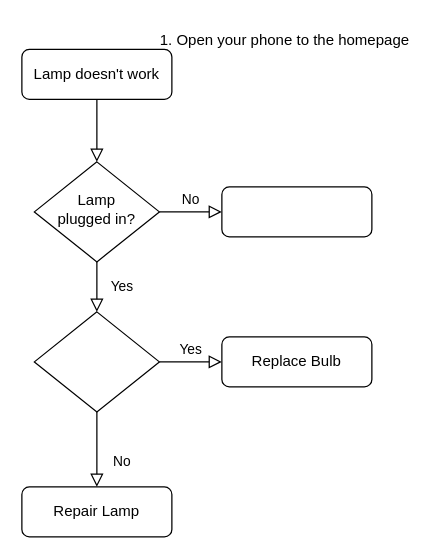
The diagram is 444 pixels wide and 559 high, and some of its shapes have lost their labels. Here are the shapes that lost their labels. From the top down, the centre of each, then its label:
point (296, 211): Plug in lamp
point (96, 361): Bulb burned out?
